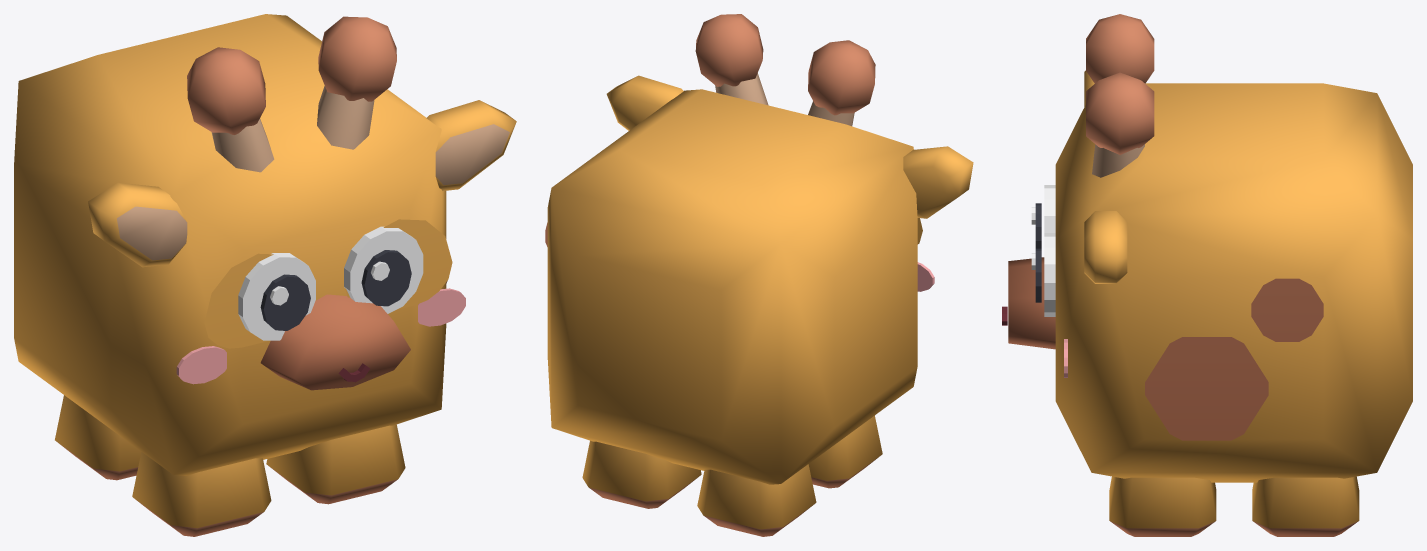
Rendered from giraffe.glb.
3 views of the same model, side by side, from view 1: azimuth 30°, elevation 25°; view 2: azimuth 150°, elevation 25°; view 3: azimuth 270°, elevation 25° (orthographic). The views are drawn at different scales.
Visible parts, largest first — view 1: body, leg-front-right, leg-front-left, leg-back-right; view 2: body, leg-back-right, leg-back-left, leg-front-right; view 3: body, leg-front-left, leg-back-left.
Part boxes in pixels (x1,y1,x2,y2): body: (14, 14, 516, 475); leg-front-right: (132, 452, 271, 536); leg-front-left: (266, 424, 405, 504); leg-back-right: (55, 395, 141, 480); body: (545, 14, 973, 484); leg-back-right: (697, 464, 816, 536); leg-back-left: (582, 440, 701, 508); leg-front-right: (808, 415, 882, 488); body: (1002, 14, 1412, 482); leg-front-left: (1109, 476, 1216, 536); leg-back-left: (1252, 476, 1359, 536).
Bounding box in the file's own units: 1.56 × 1.71 × 1.44.
Materials: 1 (1 with a texture image).
